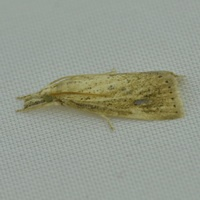insect: (17, 70, 184, 129)
